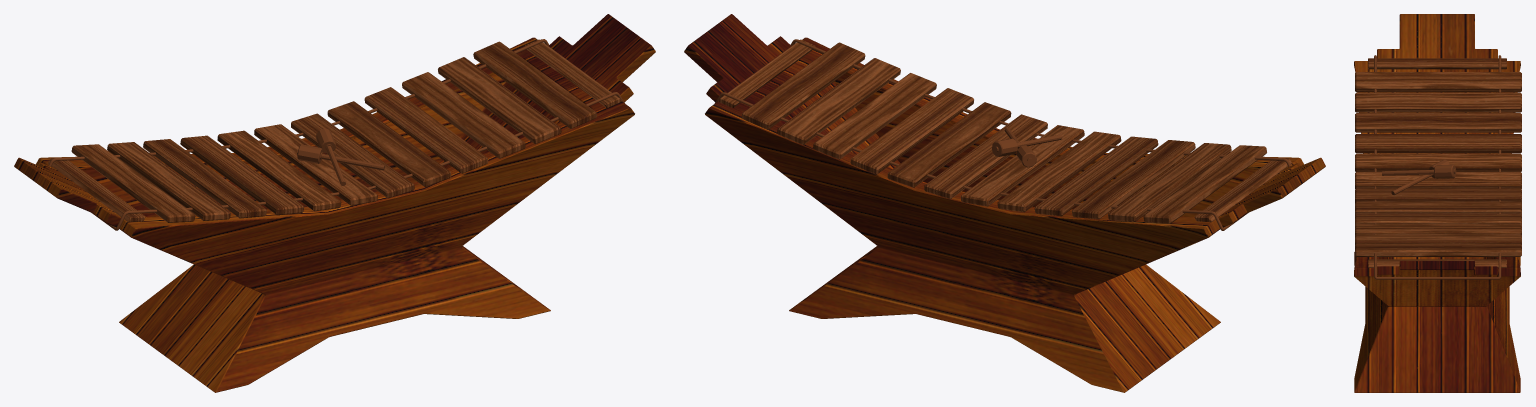
The model's file is Xylophone Final.FBX.
3 views of the same model, side by side, from view 1: azimuth 30°, elevation 25°; view 2: azimuth 150°, elevation 25°; view 3: azimuth 270°, elevation 25° (orthographic). The views are drawn at different scales.
Parts seen in each view (by area): view 1: Object002, Object001, Line001; view 2: Object002, Object001, Line001; view 3: Object001, Object002, Line001.
Part boxes in pixels (<box>): Object002: <box>14,14,655,392</box>; Object001: <box>48,39,621,222</box>; Line001: <box>48,39,624,230</box>; Object002: <box>684,14,1325,392</box>; Object001: <box>718,39,1291,223</box>; Line001: <box>714,39,1291,230</box>; Object001: <box>1355,58,1521,267</box>; Object002: <box>1354,14,1520,392</box>; Line001: <box>1374,55,1501,279</box>.
Bounding box in the file's own units: 42.7 × 14.67 × 12.07.
2 materials, 2 textured.
